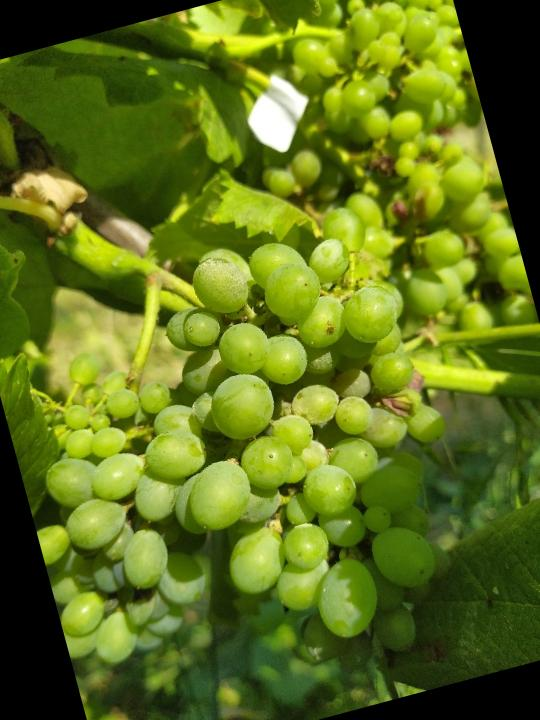grape: (0, 194, 507, 720)
